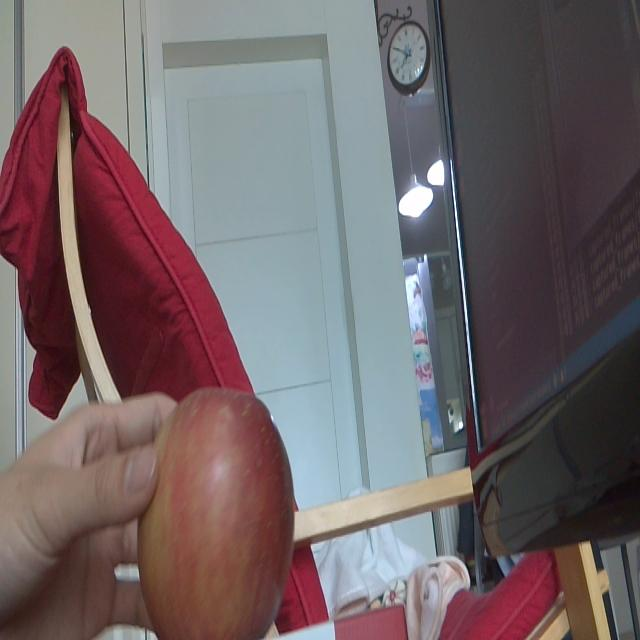apple: (137, 379, 298, 640)
